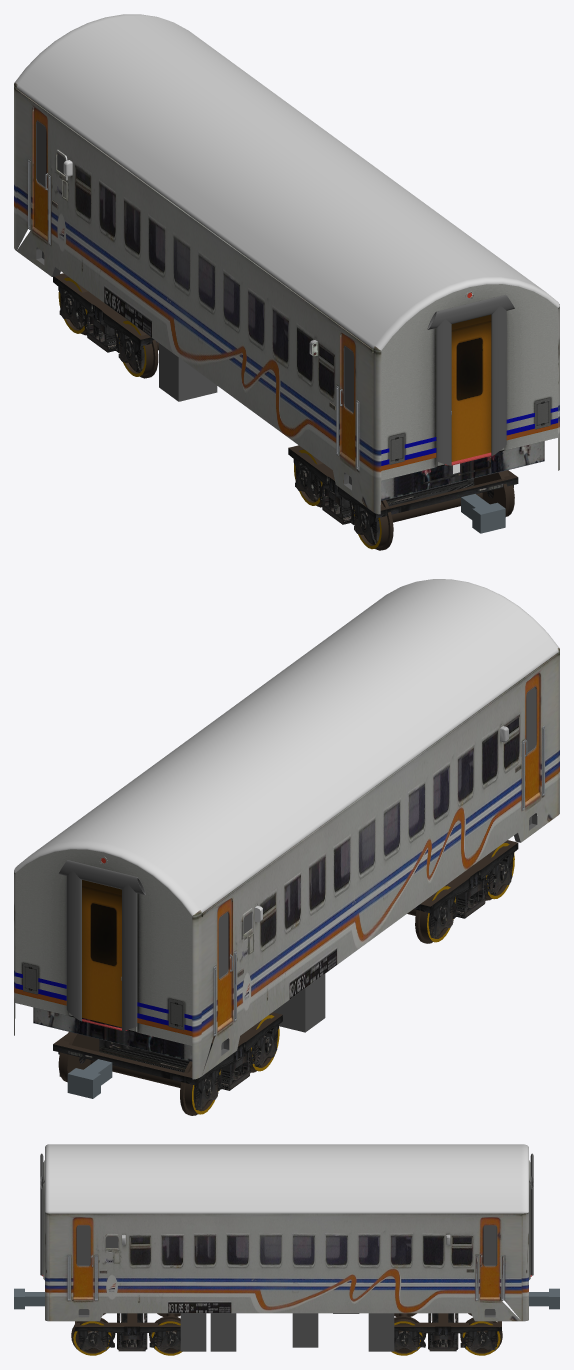
Rendered from passenger-economy-high.glb.
3 renders of one model, top to bottom at view 1: azimuth 30°, elevation 25°; view 2: azimuth 150°, elevation 25°; view 3: azimuth 270°, elevation 25°, orthographic. The views are drawn at different scales.
Parts seen in each view (by area): view 1: passenger-body, rail-bogie-1, rail-bogie--1, passenger-door--1--1, passenger-door--1-1, rail-coupler-1, rail-wheel-coach-3-1, rail-wheel-coach-1--1, rail-wheel-coach-3--1; view 2: passenger-body, rail-bogie--1, rail-bogie-1, passenger-door--1--1, passenger-door--1-1, rail-coupler--1, rail-wheel-coach-0-1, rail-wheel-coach-2--1, rail-wheel-coach-0--1; view 3: passenger-body, rail-bogie--1, rail-bogie-1, passenger-door-1--1, passenger-door-1-1, rail-coupler--1, rail-coupler-1, rail-wheel-coach-3-1, rail-wheel-coach-0-1, rail-wheel-coach-2-1, rail-wheel-coach-1-1.
Part boxes in pixels (x1,y1,x2,y2): passenger-body: [14, 14, 559, 514]; rail-bogie-1: [288, 445, 518, 543]; rail-bogie--1: [53, 273, 158, 371]; passenger-door--1--1: [28, 103, 51, 244]; passenger-door--1-1: [336, 329, 359, 470]; rail-coupler-1: [461, 494, 505, 533]; rail-wheel-coach-3-1: [474, 459, 514, 516]; rail-wheel-coach-1--1: [117, 320, 158, 378]; rail-wheel-coach-3--1: [353, 500, 393, 550]; passenger-body: [14, 579, 559, 1079]; rail-bogie--1: [53, 1012, 282, 1110]; rail-bogie-1: [407, 840, 518, 938]; passenger-door--1--1: [213, 894, 236, 1033]; passenger-door--1-1: [522, 669, 544, 807]; rail-coupler--1: [67, 1059, 112, 1098]; rail-wheel-coach-0-1: [58, 1032, 99, 1082]; rail-wheel-coach-2--1: [415, 885, 455, 943]; rail-wheel-coach-0--1: [180, 1061, 220, 1115]; passenger-body: [40, 1144, 533, 1351]; rail-bogie--1: [394, 1287, 501, 1351]; rail-bogie-1: [75, 1313, 180, 1351]; passenger-door-1--1: [475, 1217, 506, 1300]; passenger-door-1-1: [67, 1217, 98, 1300]; rail-coupler--1: [529, 1288, 559, 1309]; rail-coupler-1: [14, 1288, 44, 1309]; rail-wheel-coach-3-1: [71, 1318, 113, 1355]; rail-wheel-coach-0-1: [460, 1317, 502, 1355]; rail-wheel-coach-2-1: [149, 1316, 182, 1355]; rail-wheel-coach-1-1: [391, 1316, 424, 1355].
Bounding box in the file's own units: 3.05 × 4.1 × 11.06.
12 materials, 10 textured.
